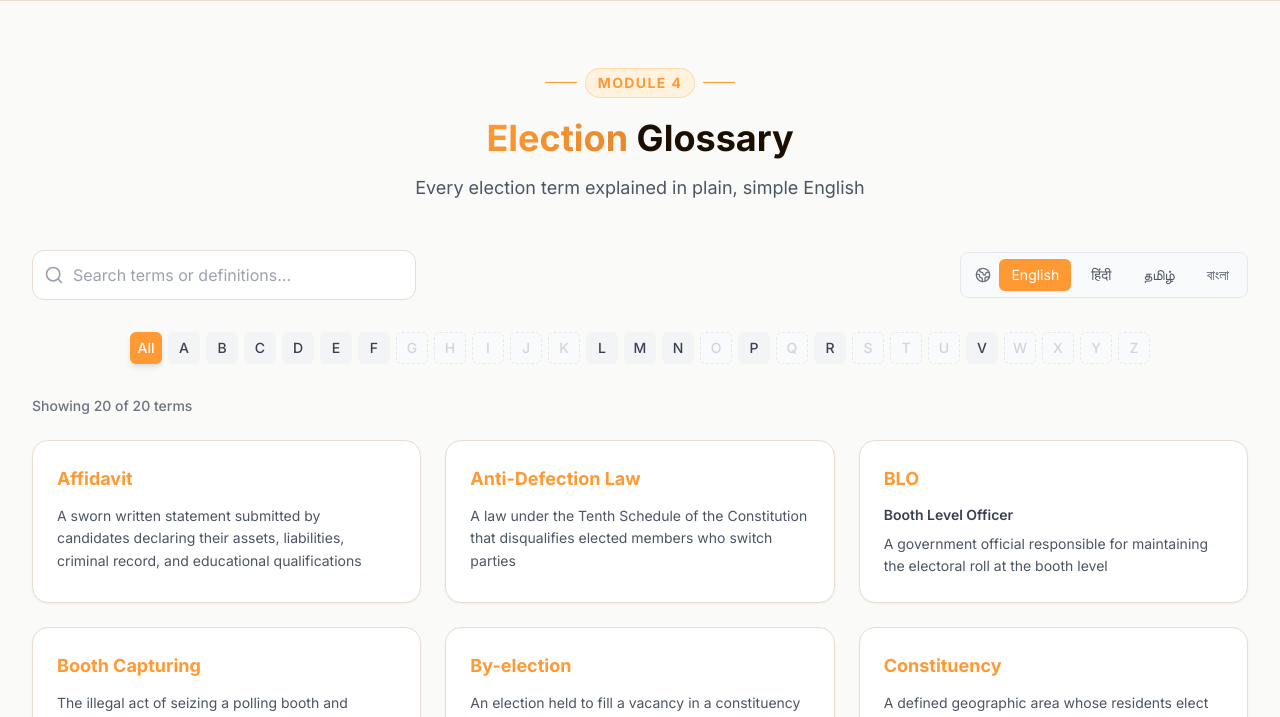
it: Glossary Component › filters terms by letter
Click the button "E" at (336,348), box [320, 332, 352, 364]
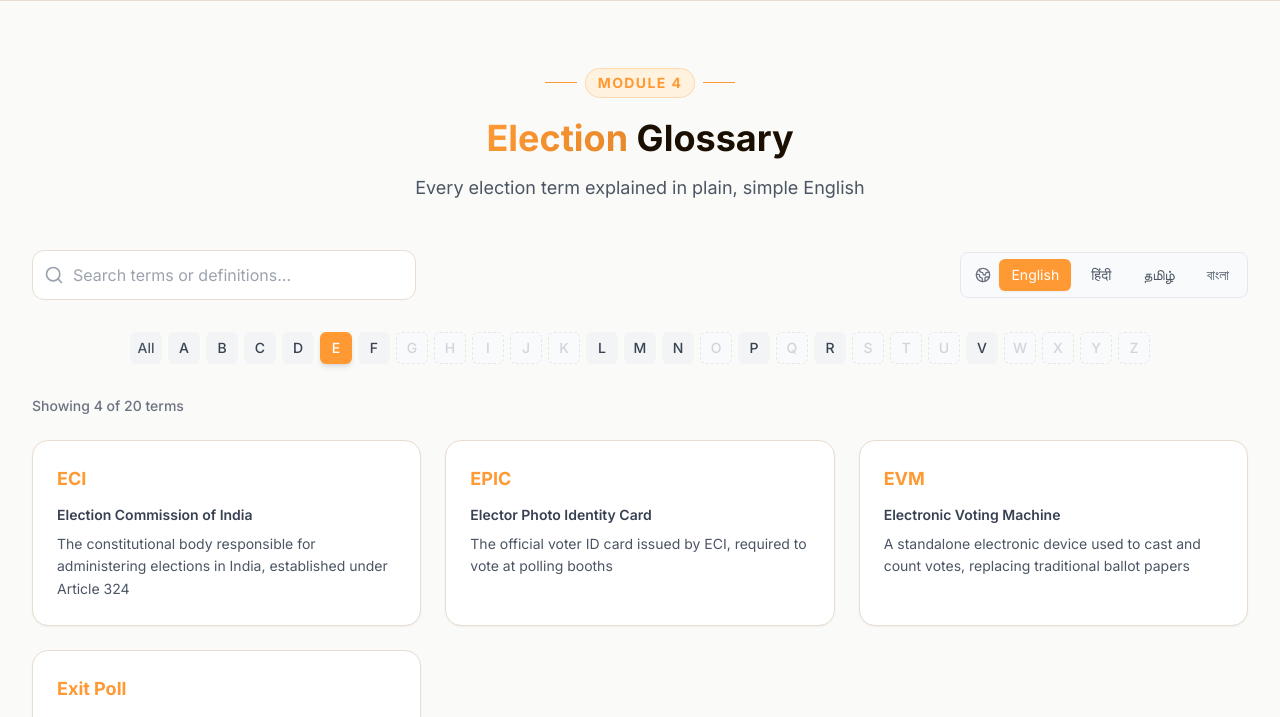
Now the heading "ECI" is shown, box [57, 464, 86, 492]
